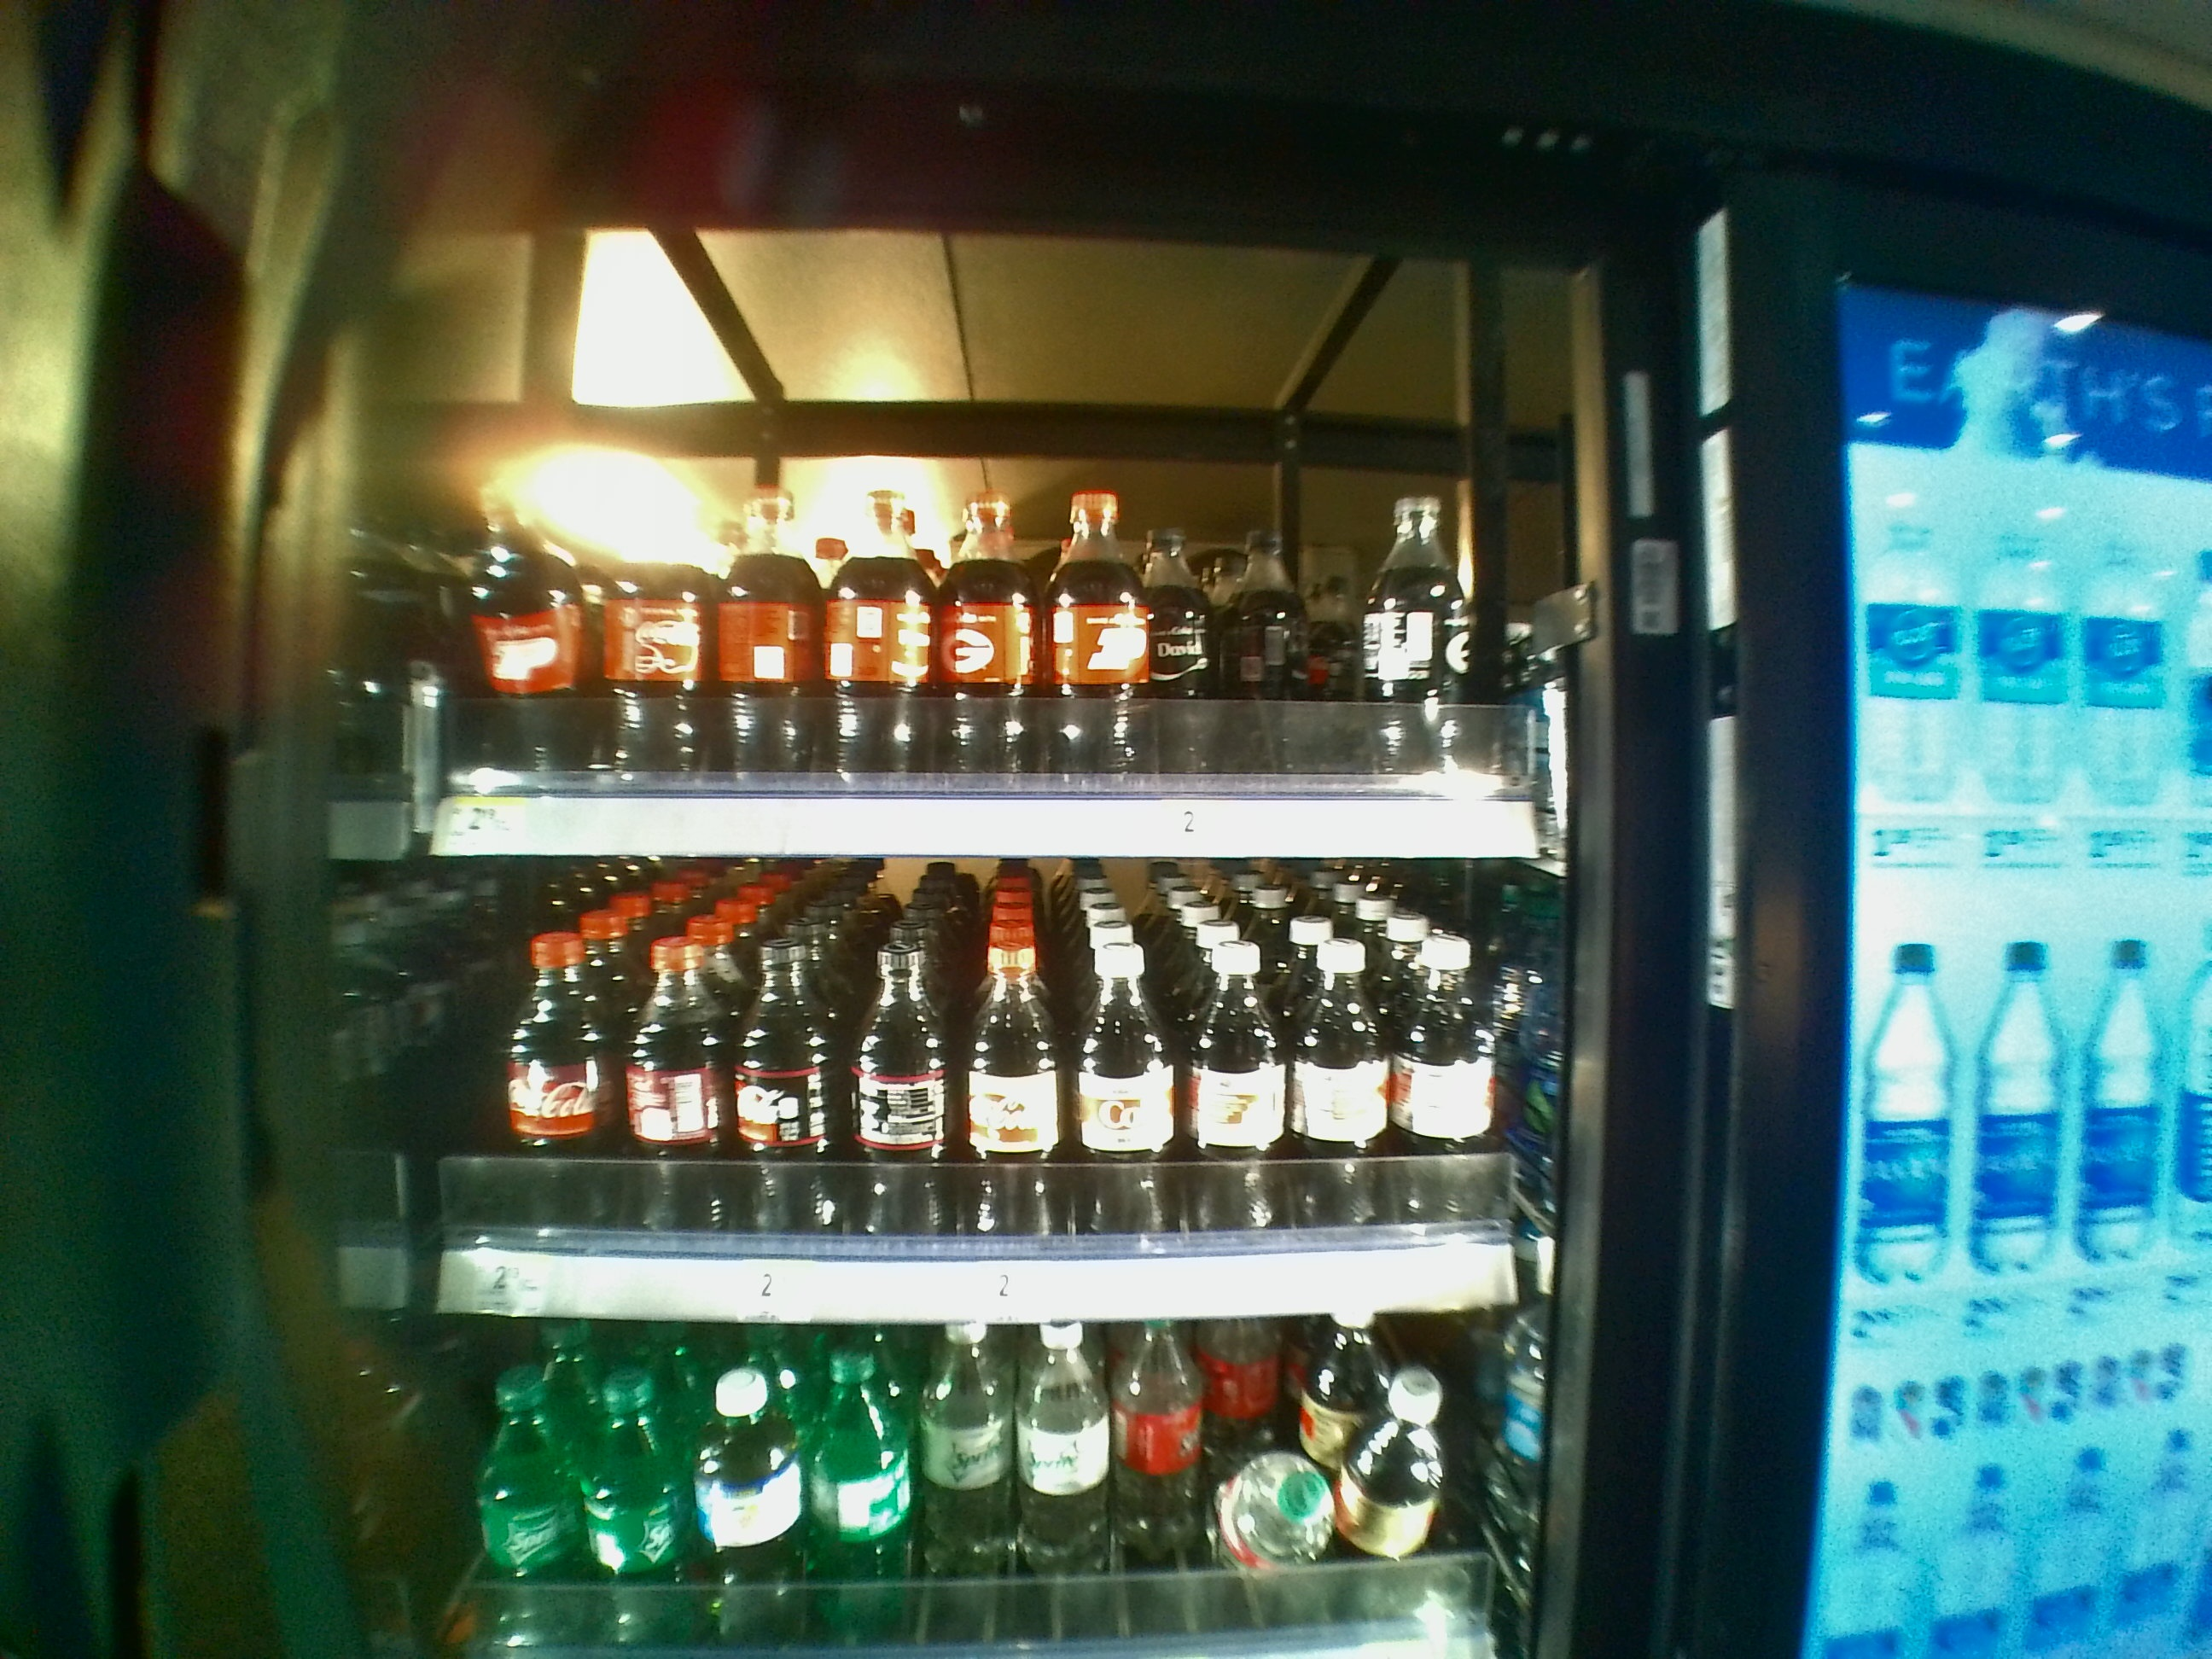Shelf: (383, 227, 1561, 863), (387, 863, 1576, 1321)
